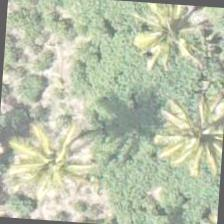Kelapa_Sawit: (7, 111, 102, 207), (118, 0, 212, 80)
